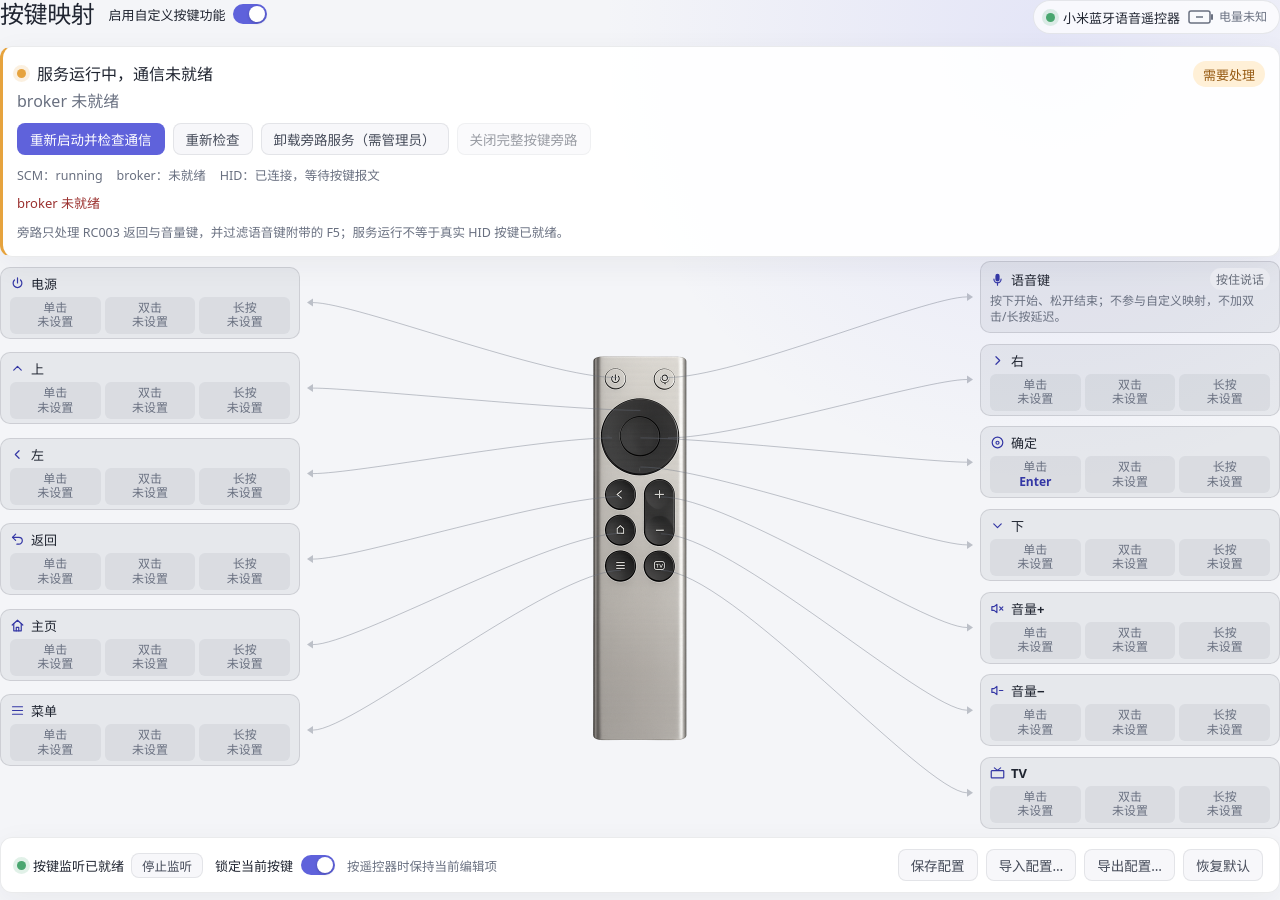
Scenario: buttons mapping page › 修复失败后读取最新 SCM 状态，第二次授权取消不承诺服务未修改，随后成功会清理旧错误
This screenshot has width=1280, height=900.
Click the button "重新启动并检查通信" at (91, 139), box [17,123,164,155]
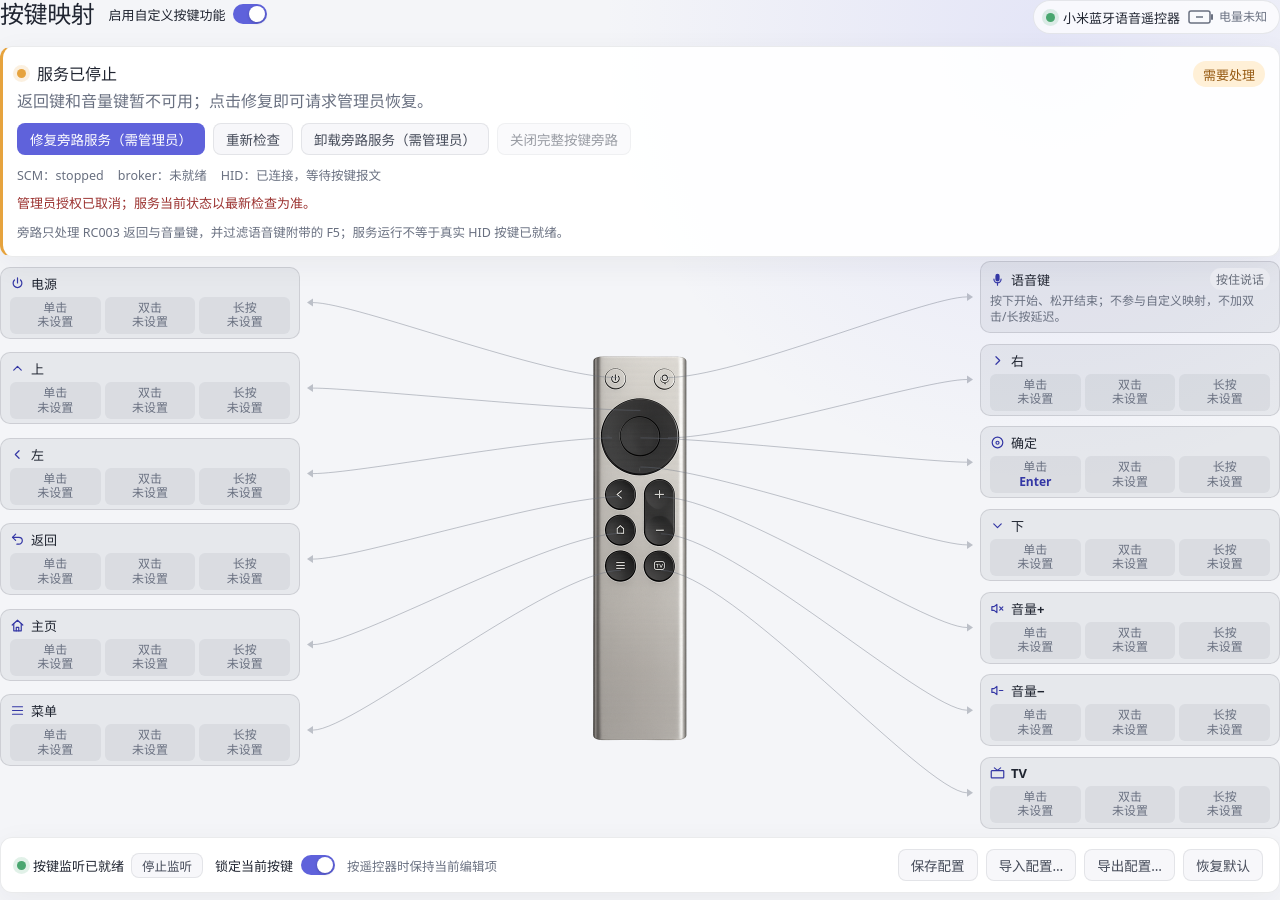
Expected: the text "服务已停止" is shown, [37,61,117,85]
Expected: the element with class "hid-tap-controls" shows "管理员授权已取消；服务当前状态以最新检查为准", [17,194,316,212]
Click the button "修复旁路服务（需管理员）" at (111, 139), box [17,123,205,155]
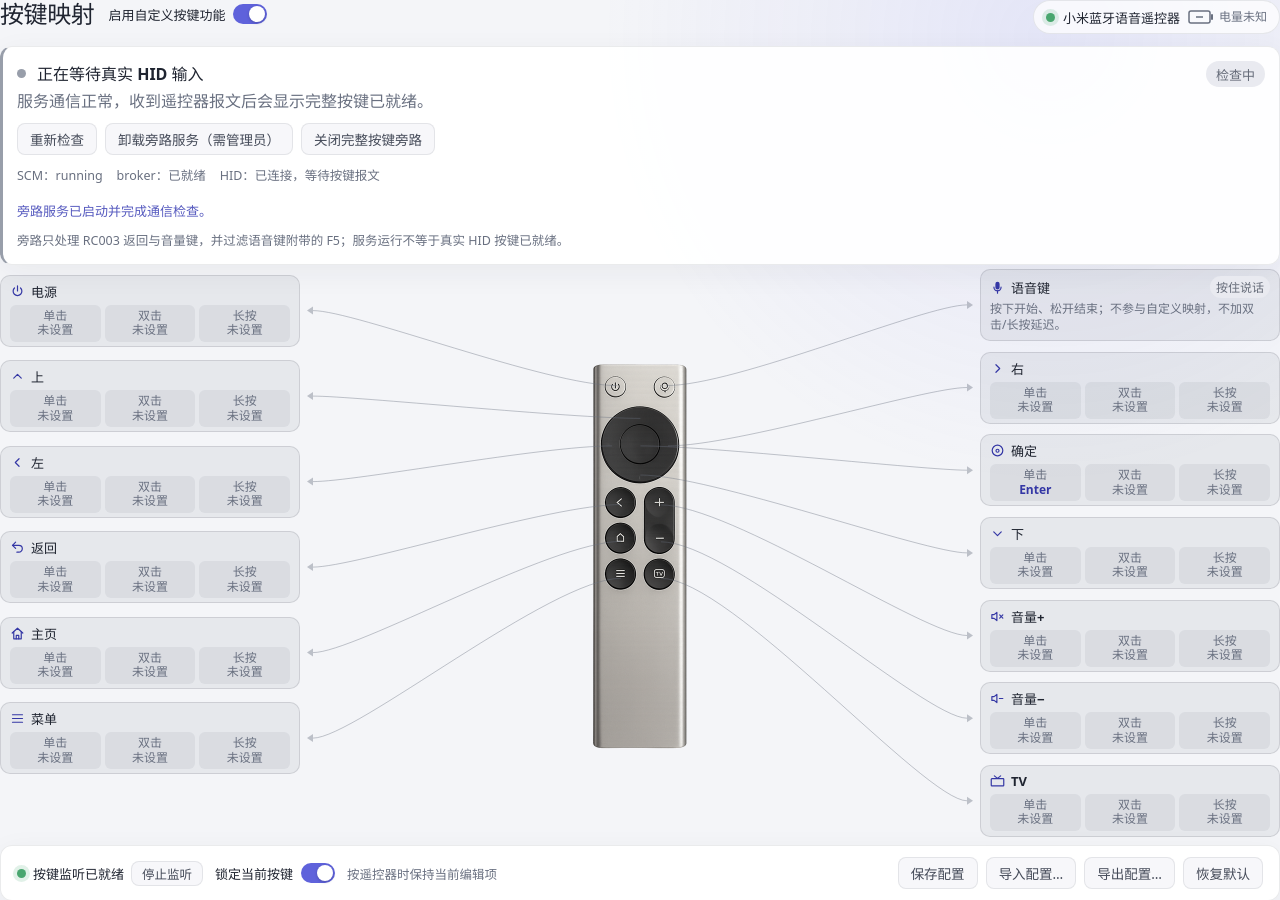
Expected: the element with class "hid-tap-controls" shows "旁路服务已启动并完成通信检查", [17,202,212,220]
Expected: the message with class "hid-tap-controls" no longer shows "管理员授权已取消"
